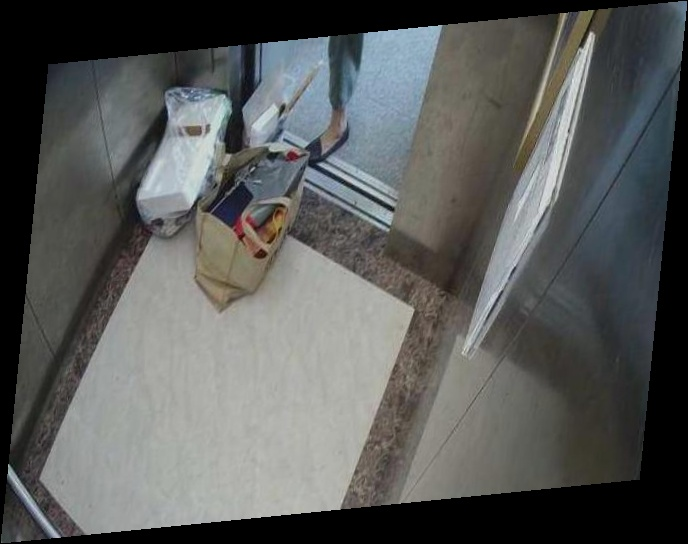box: (134, 78, 374, 314)
